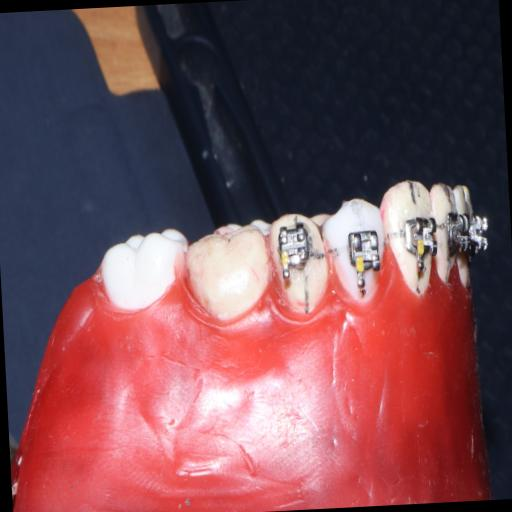incorrect_brace: (276, 227, 312, 271)
